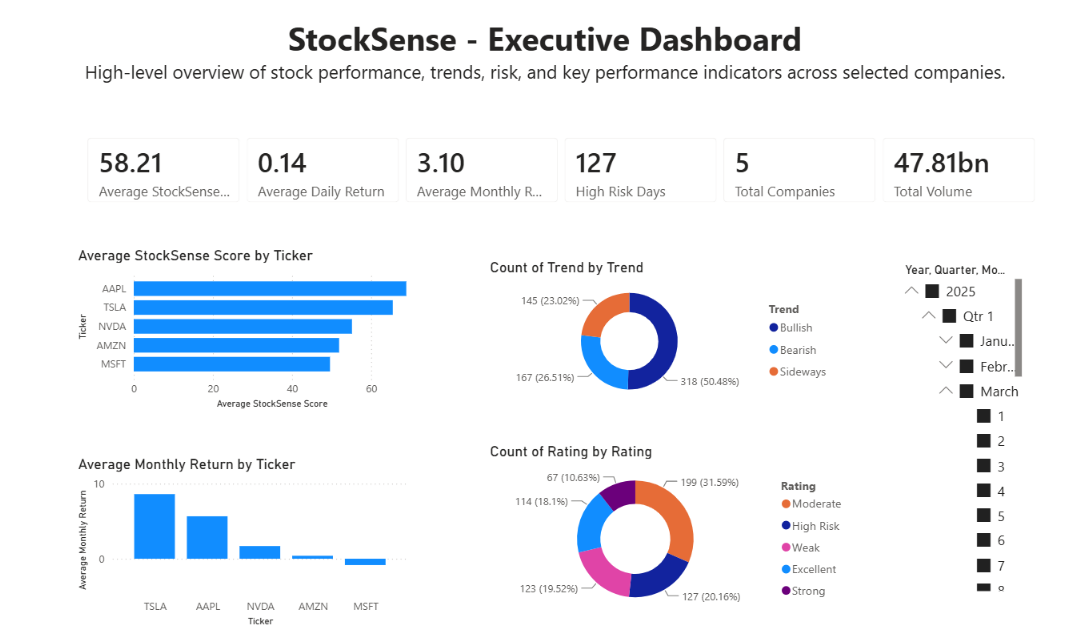

The page's visual inventory and layout, read from the dashboard file:
{"tool":"powerbi","page":{"name":"Executive Dashboard","canvas":[1280,720],"ordinal":0},"visuals":[{"type":"cardVisual","fields":{"Data":["Measures (3).Average StockSense Score","Measures (3).Average Daily Return","Measures (3).Average Monthly Return","Measures (3).High Risk Days","Measures (3).Total Companies","Measures (3).Total Volume"]},"box":[93.3,129,1141.7,109.8],"z":0},{"type":"clusteredBarChart","fields":{"Category":["stock_data.Ticker"],"Y":["Measures (3).Average StockSense Score"]},"box":[94,272,404,194],"z":1000},{"type":"donutChart","fields":{"Category":["stock_data.Trend"],"Y":["CountNonNull(stock_data.Trend)"]},"box":[574,286,410,174],"z":2000},{"type":"donutChart","fields":{"Category":["stock_data.Rating"],"Y":["CountNonNull(stock_data.Rating)"]},"box":[574,500,428,206],"z":3000},{"type":"columnChart","fields":{"Category":["stock_data.Ticker"],"Y":["Measures (3).Average Monthly Return"]},"box":[94,516,394,204],"z":4000},{"type":"slicer","fields":{"Values":["stock_data.Date.Variation.Date Hierarchy.Year","stock_data.Date.Variation.Date Hierarchy.Quarter","stock_data.Date.Variation.Date Hierarchy.Month","stock_data.Date.Variation.Date Hierarchy.Day"]},"box":[1048.4,286.8,153.7,392.5],"z":5000},{"type":"textbox","box":[37,0,1210.3,113.9],"z":6000}]}

Visuals, with their boxes in screenshot pixels (x1, y1, x2, y2), scaled from the page's 1280x720 canvas onto the 1085x627 screenshot:
cardVisual - Measures (3).Average StockSense Score x Measures (3).Average Daily Return: x1=79, y1=112, x2=1047, y2=208
clusteredBarChart - stock_data.Ticker x Measures (3).Average StockSense Score: x1=80, y1=237, x2=422, y2=406
donutChart - stock_data.Trend x CountNonNull(stock_data.Trend): x1=487, y1=249, x2=834, y2=401
donutChart - stock_data.Rating x CountNonNull(stock_data.Rating): x1=487, y1=435, x2=849, y2=615
columnChart - stock_data.Ticker x Measures (3).Average Monthly Return: x1=80, y1=449, x2=414, y2=626
slicer - stock_data.Date.Variation.Date Hierarchy.Year x stock_data.Date.Variation.Date Hierarchy.Quarter: x1=889, y1=250, x2=1019, y2=592
textbox: x1=31, y1=0, x2=1057, y2=99
